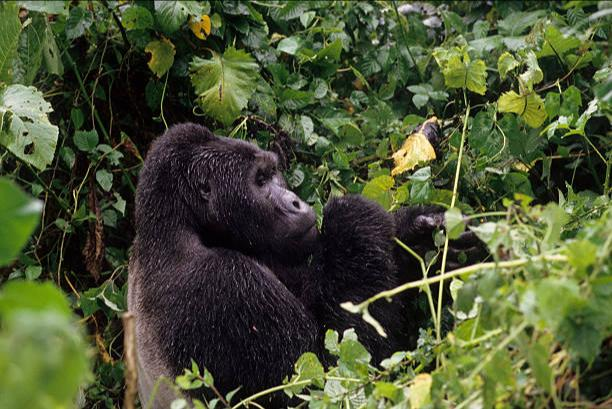goriile_montagne: (129, 103, 434, 407)
